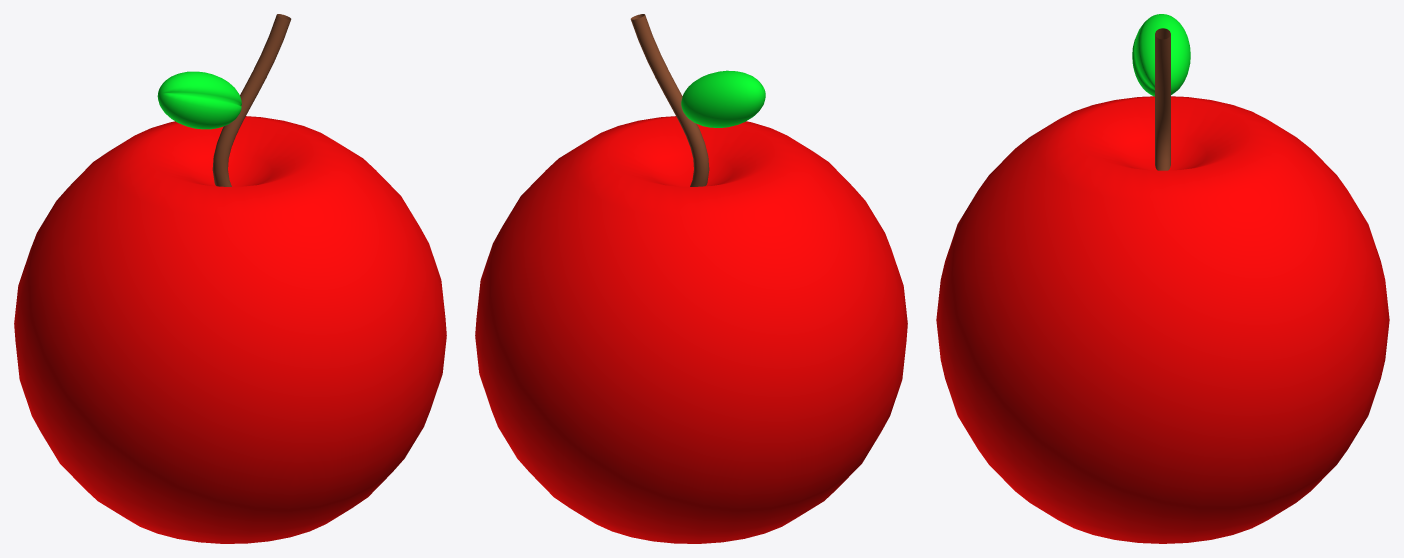
The model's file is apple.glb.
3 views of the same model, side by side, from view 1: azimuth 30°, elevation 25°; view 2: azimuth 150°, elevation 25°; view 3: azimuth 270°, elevation 25° (orthographic). The views are drawn at different scales.
Parts seen in each view (by area): view 1: Sphere, Sphere.001, BézierCurve; view 2: Sphere, Sphere.001, BézierCurve; view 3: Sphere, Sphere.001, BézierCurve.
Boxes of the visible parts, x1=… form: Sphere: x1=14, y1=116, x2=446, y2=543; Sphere.001: x1=157, y1=71, x2=241, y2=129; BézierCurve: x1=212, y1=14, x2=291, y2=186; Sphere: x1=475, y1=116, x2=907, y2=543; Sphere.001: x1=681, y1=70, x2=765, y2=127; BézierCurve: x1=630, y1=14, x2=709, y2=186; Sphere: x1=936, y1=96, x2=1389, y2=543; Sphere.001: x1=1132, y1=14, x2=1190, y2=96; BézierCurve: x1=1155, y1=28, x2=1170, y2=170.
Bounding box in the file's own units: 0.3971 × 0.4851 × 0.3971.
